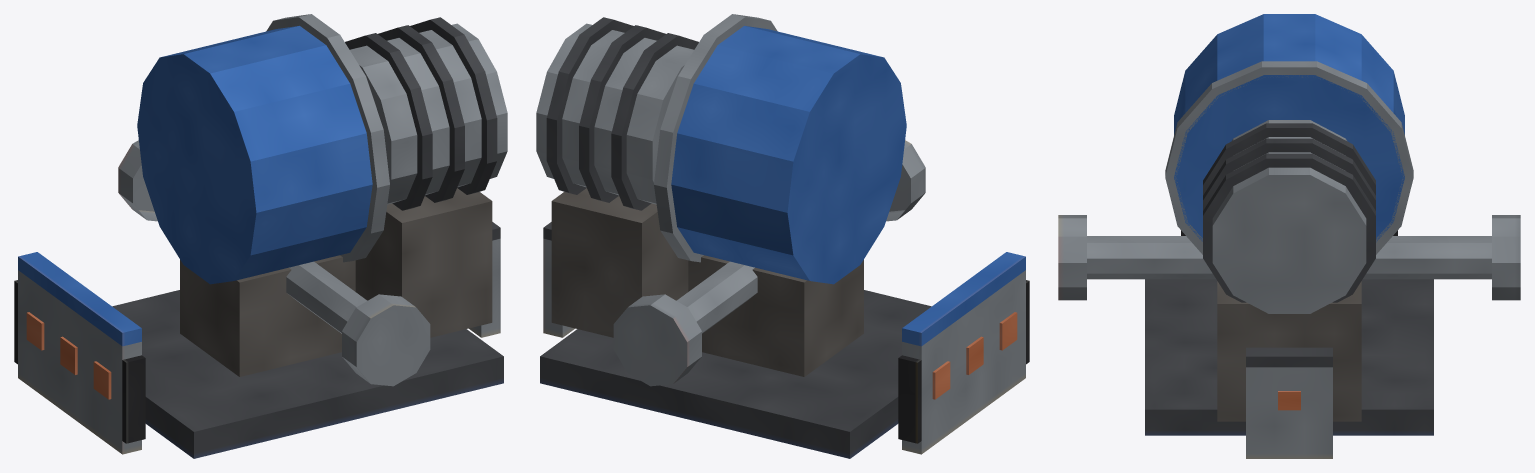
The model's file is inlinepump200v.obj.
The picture shows the model from 3 angles, left to right: view 1: azimuth 30°, elevation 25°; view 2: azimuth 150°, elevation 25°; view 3: azimuth 270°, elevation 25°; orthographic projection. The views are drawn at different scales.
Visible parts, largest first — view 1: main; view 2: main; view 3: main.
Boxes of the visible parts, bbox=[...] form: main: bbox=[14, 14, 507, 458]; main: bbox=[536, 14, 1029, 458]; main: bbox=[1058, 14, 1520, 458].
Bounding box in the file's own units: 1 × 0.762 × 1.
Materials: 1 (1 with a texture image).
